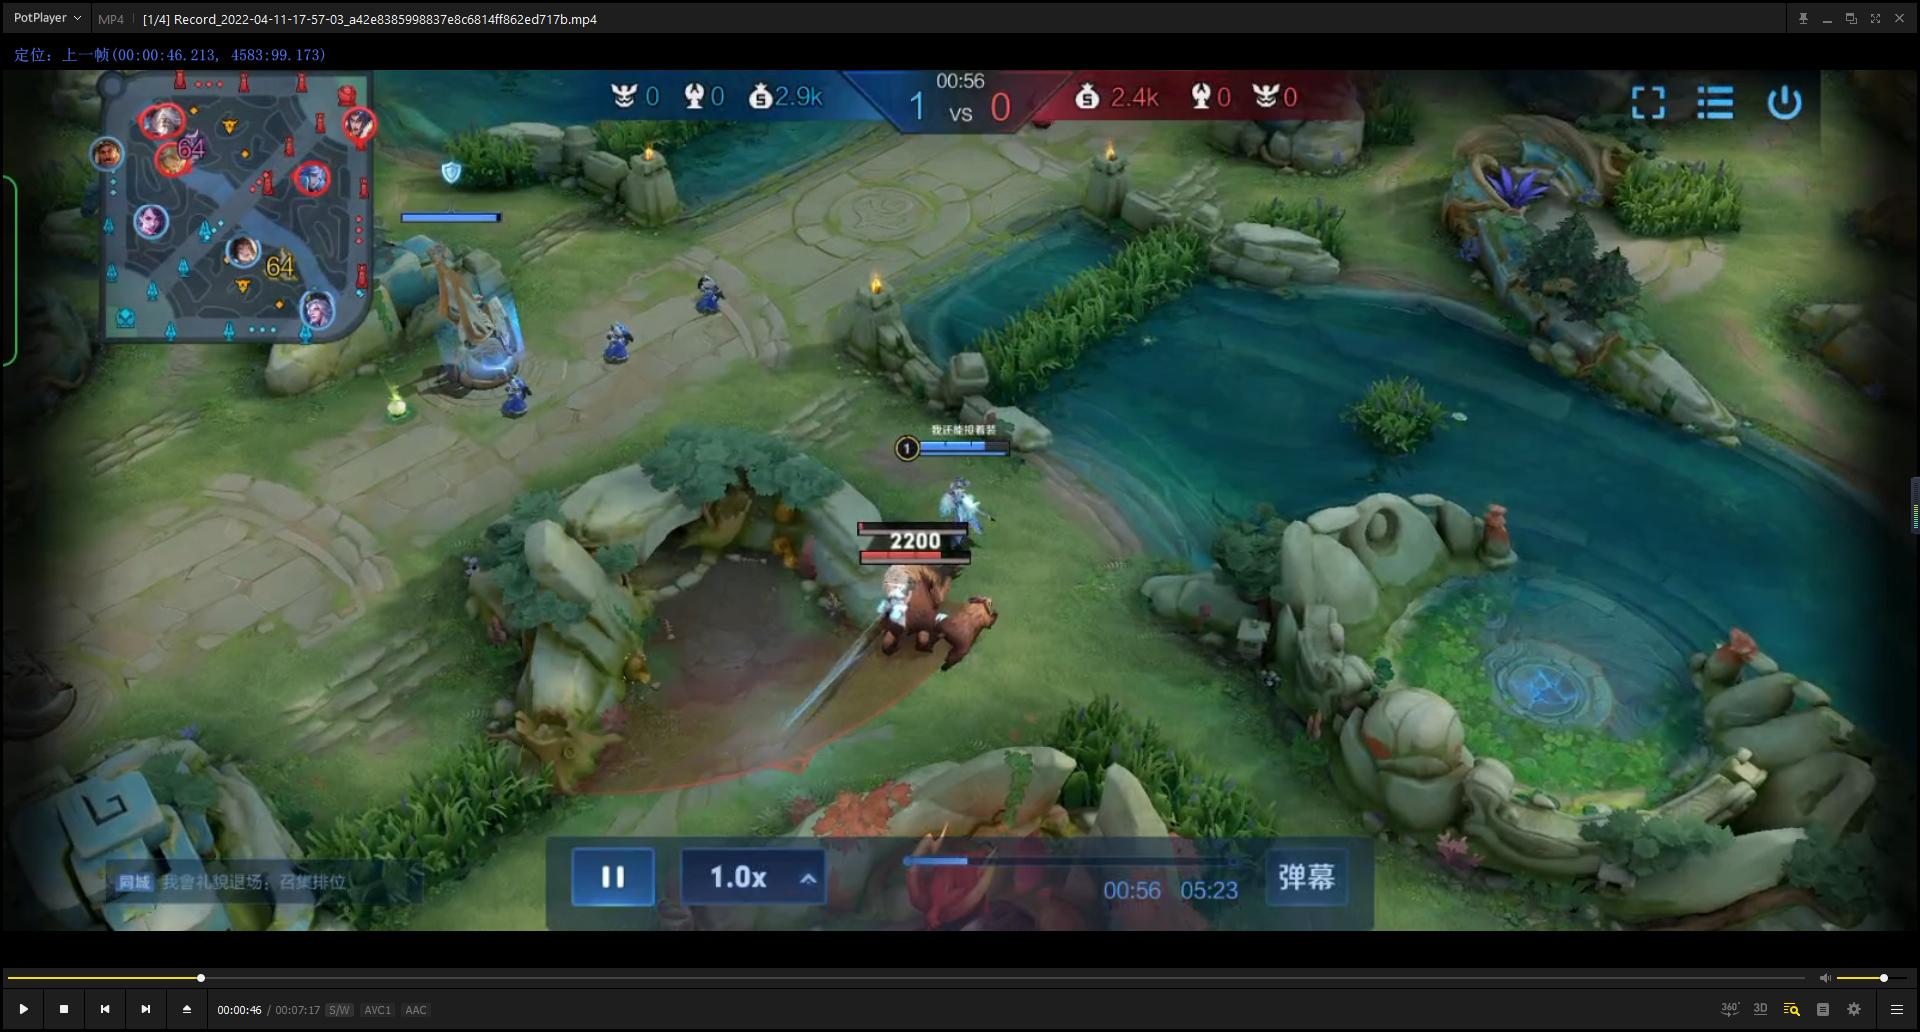Buff: (859, 824, 1045, 930)
Hero: (923, 463, 1029, 554)
Pig: (850, 536, 956, 660), (929, 594, 1032, 689)
Solider: (676, 269, 769, 337), (573, 311, 651, 380), (492, 371, 557, 445)
Tower: (385, 207, 540, 384)
